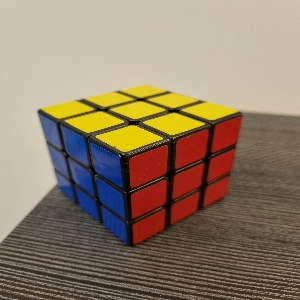cube: (38, 84, 243, 248)
